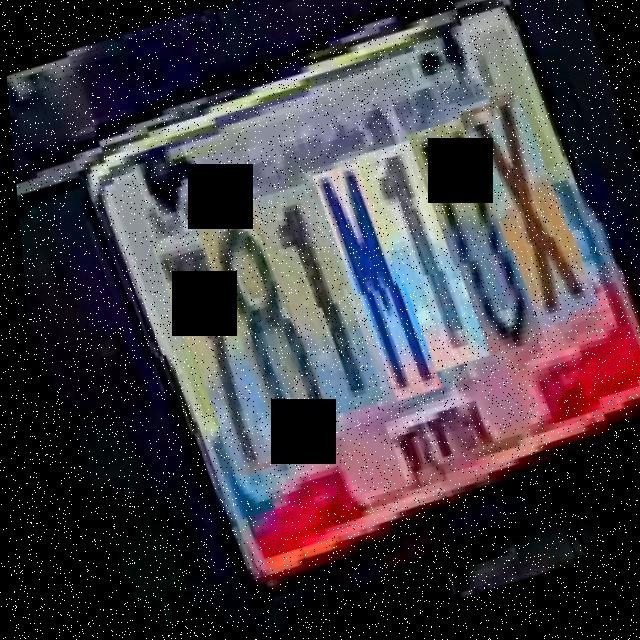1: (352, 139, 488, 381), (247, 183, 376, 423)
7: (147, 230, 279, 486)
8: (191, 204, 331, 456)
M: (309, 162, 432, 410)
U: (404, 121, 536, 365)
X: (458, 98, 593, 339)
